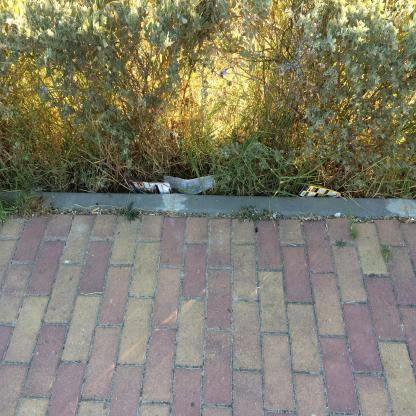kagit: (164, 175, 216, 195), (124, 178, 172, 194), (297, 185, 341, 197)
